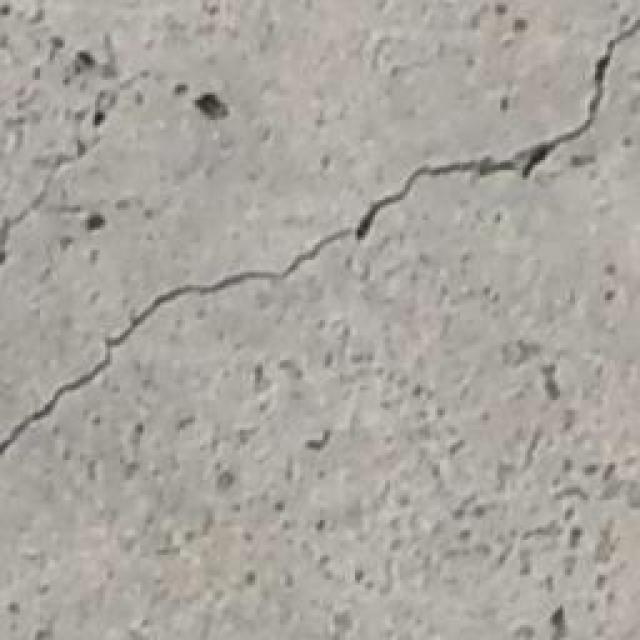concrete-crack: (0, 229, 352, 453), (355, 20, 640, 245)
